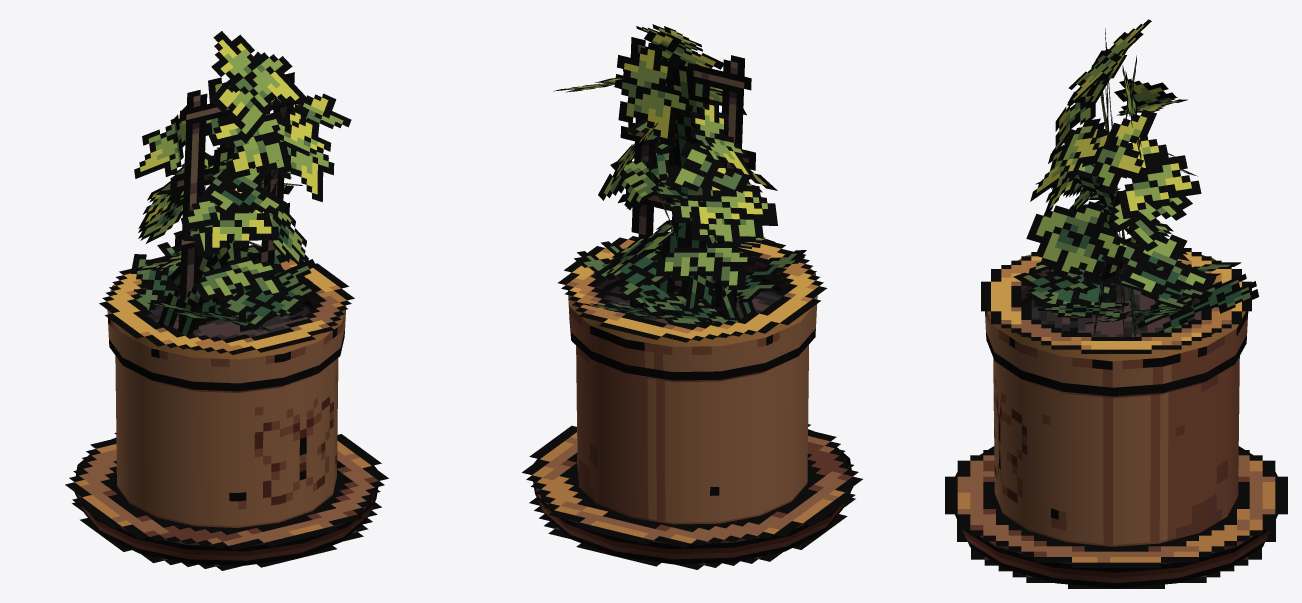
File: Tape.glb
3 renders of one model, left to right at view 1: azimuth 30°, elevation 25°; view 2: azimuth 150°, elevation 25°; view 3: azimuth 270°, elevation 25°, orthographic. The views are drawn at different scales.
Visible parts, largest first — view 1: pot_0, plant_1; view 2: pot_0, plant_1; view 3: pot_0, plant_1.
Boxes of the visible parts, box(x1,y1,x2,y2) form: pot_0: box(65, 256, 388, 570); plant_1: box(131, 31, 351, 335); pot_0: box(522, 236, 862, 569); plant_1: box(553, 24, 806, 326); pot_0: box(945, 244, 1287, 588); plant_1: box(1013, 19, 1258, 336).
Bounding box in the file's own units: 2 × 3.23 × 1.95.
Materials: 1 (1 with a texture image).
